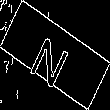N_NE: (31, 24, 79, 86)
